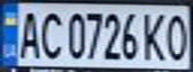0: (63, 8, 84, 60)
2: (103, 8, 124, 61)
6: (118, 9, 145, 61)
7: (81, 8, 106, 61)
A: (15, 7, 42, 61)
C: (36, 8, 66, 61)
K: (139, 9, 169, 61)
O: (160, 10, 193, 62)
